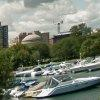Boat: (21, 73, 99, 100)
